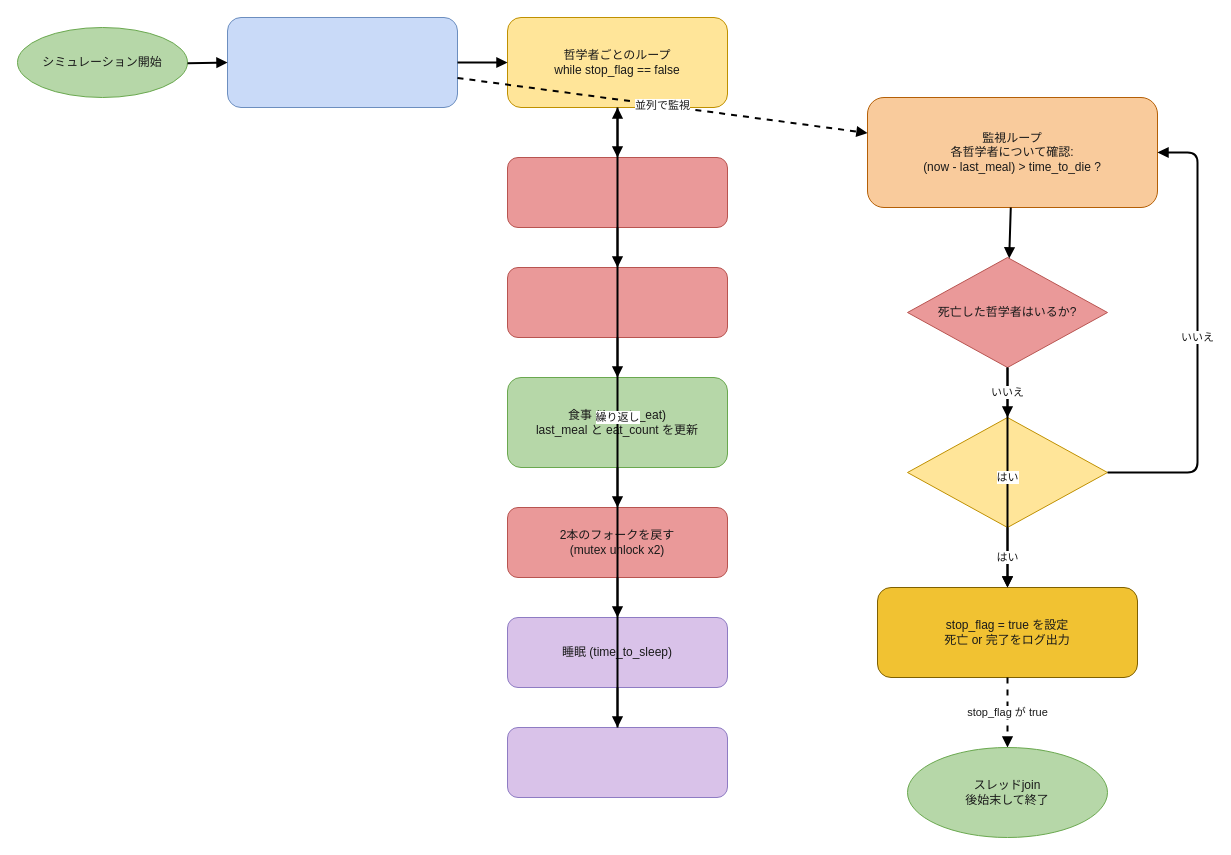
Image size: 1231x855. Some labels were removed from this diagram. The box of each missing label's shape, as (x1, y1, x2, y2) in pixels:
1本目のフォークを取る (mutex lock): (506, 156, 728, 228)
2本目のフォークを取る (mutex lock): (506, 266, 728, 338)
全哲学者の eat_count >= target ?: (906, 416, 1108, 528)
哲学者スレッドを生成 last_meal = 現在時刻で初期化: (226, 16, 458, 108)
思考: (506, 726, 728, 798)
